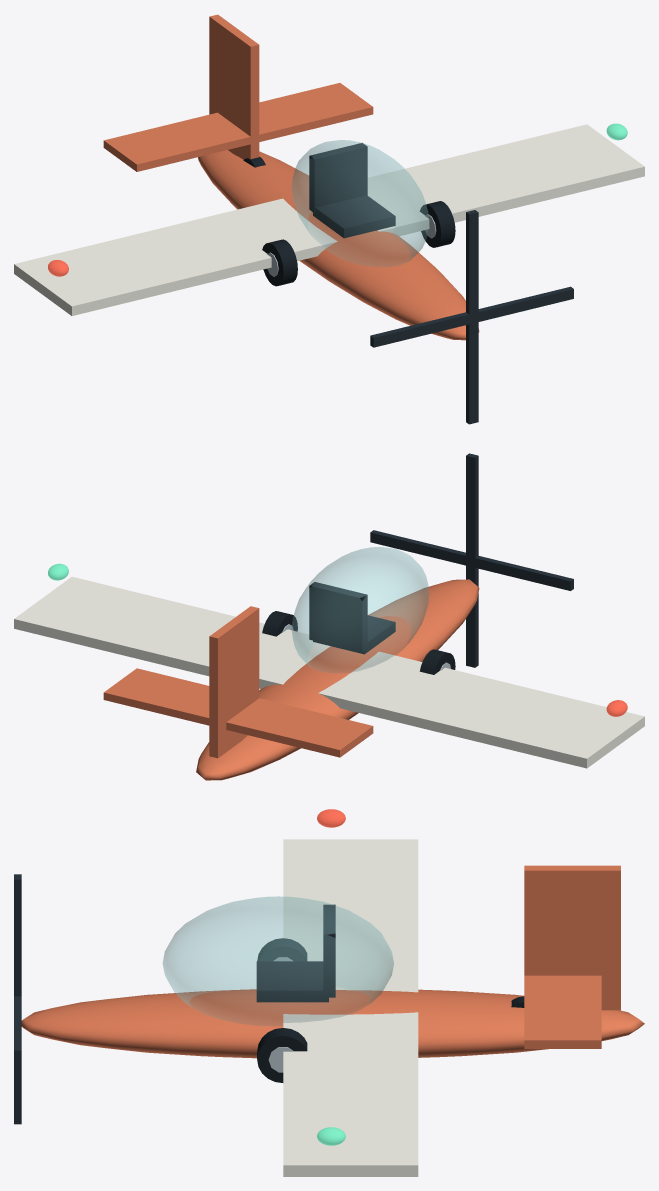
The picture shows the model from 3 angles, top to bottom: view 1: azimuth 30°, elevation 25°; view 2: azimuth 150°, elevation 25°; view 3: azimuth 270°, elevation 25°; orthographic projection. The views are drawn at different scales.
Visible parts, largest first — view 1: plane, rotor.0, wheel.0.spin, wheel.1.spin; view 2: plane, rotor.0, wheel.0.spin, wheel.1.spin; view 3: plane, rotor.0, wheel.1.spin, wheel.0.spin.
Boxes of the visible parts, x1,y1,x2,y2 form: plane: [14, 14, 644, 340]; rotor.0: [370, 210, 573, 424]; wheel.0.spin: [262, 239, 297, 286]; wheel.1.spin: [420, 201, 455, 247]; plane: [14, 547, 644, 780]; rotor.0: [370, 453, 573, 667]; wheel.0.spin: [419, 649, 455, 674]; wheel.1.spin: [262, 611, 297, 636]; plane: [21, 809, 644, 1176]; rotor.0: [14, 874, 21, 1124]; wheel.1.spin: [257, 1028, 307, 1082]; wheel.0.spin: [257, 938, 307, 961].
Size of the model in its own units: 8.04 by 2.9 by 6.54.
